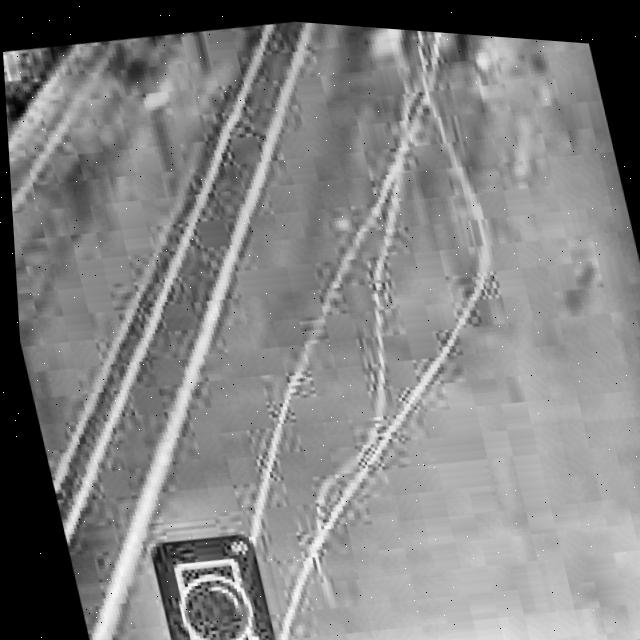door_scratch: (355, 26, 508, 321), (261, 303, 413, 577), (204, 482, 313, 640)
